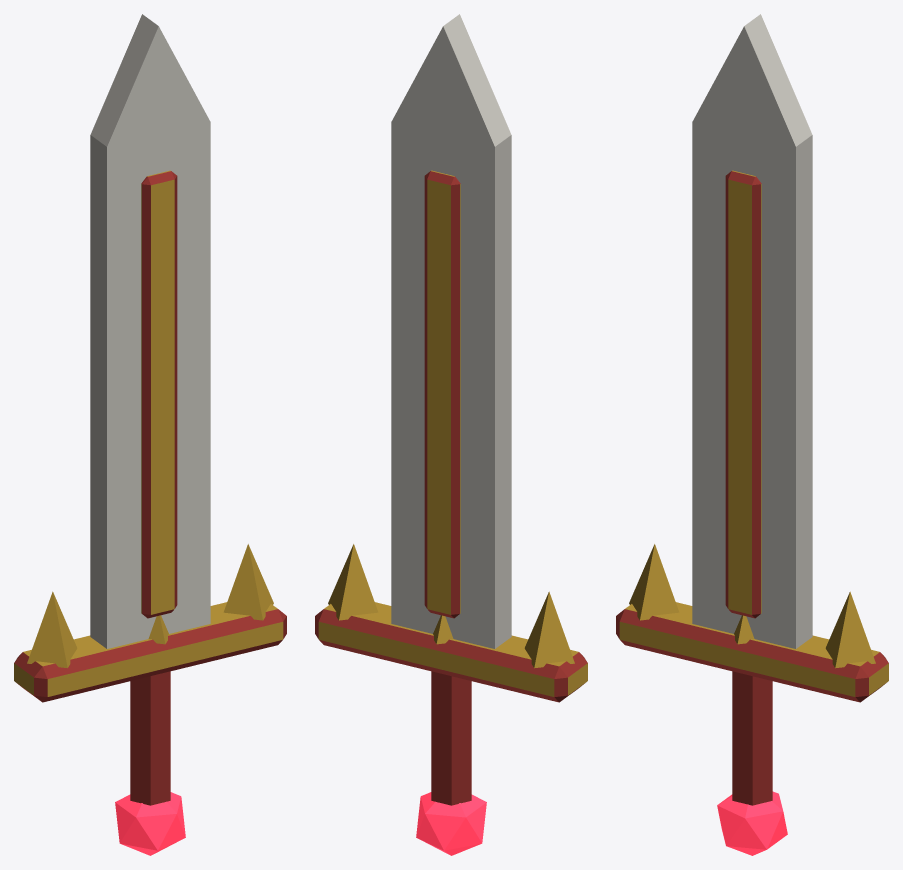
The model's file is crownblade.glb.
3 renders of one model, left to right at view 1: azimuth 30°, elevation 25°; view 2: azimuth 150°, elevation 25°; view 3: azimuth 330°, elevation 25°, orthographic.
Visible parts, largest first — view 1: crownblade; view 2: crownblade; view 3: crownblade.
Boxes of the visible parts, <box> form: crownblade: <box>14,14,286,855</box>; crownblade: <box>315,14,587,855</box>; crownblade: <box>616,14,888,855</box>.
Size of the model in its own units: 0.44 by 1.39 by 0.1021.
